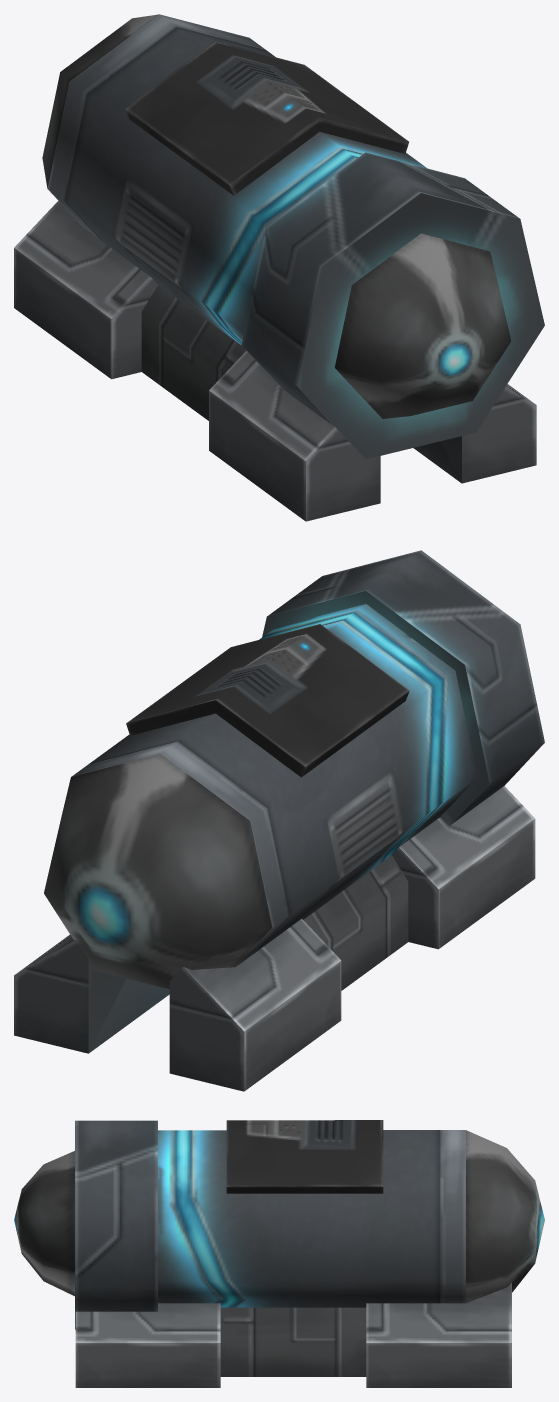
The model's file is Generator_03.fbx.
3 views of the same model, one above another, from view 1: azimuth 30°, elevation 25°; view 2: azimuth 150°, elevation 25°; view 3: azimuth 270°, elevation 25° (orthographic). The views are drawn at different scales.
Parts seen in each view (by area): view 1: Generator_03; view 2: Generator_03; view 3: Generator_03.
Boxes of the visible parts, x1,y1,x2,y2 form: Generator_03: [14, 14, 544, 521]; Generator_03: [14, 550, 544, 1091]; Generator_03: [14, 1120, 544, 1387].
Size of the model in its own units: 0.8578 by 0.9972 by 2.13.
